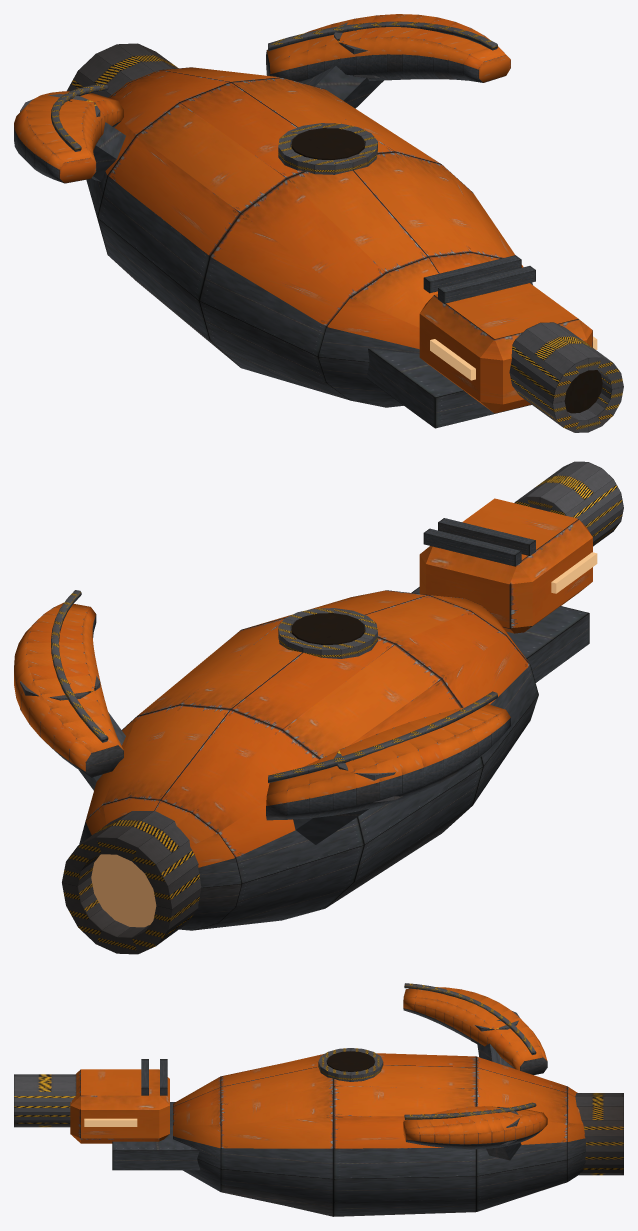
Rendered from pioneer-saturn-l01-laser.glb.
The picture shows the model from 3 angles, top to bottom: view 1: azimuth 30°, elevation 25°; view 2: azimuth 150°, elevation 25°; view 3: azimuth 270°, elevation 25°; orthographic projection. The views are drawn at different scales.
Visible parts, largest first — view 1: Drone; view 2: Drone; view 3: Drone.
Part boxes in pixels (bbox=[...]): Drone: bbox=[14, 14, 623, 432]; Drone: bbox=[14, 461, 623, 954]; Drone: bbox=[14, 983, 623, 1216].
Bounding box in the file's own units: 0.7866 × 0.3952 × 1.41.
3 materials, 3 textured.
